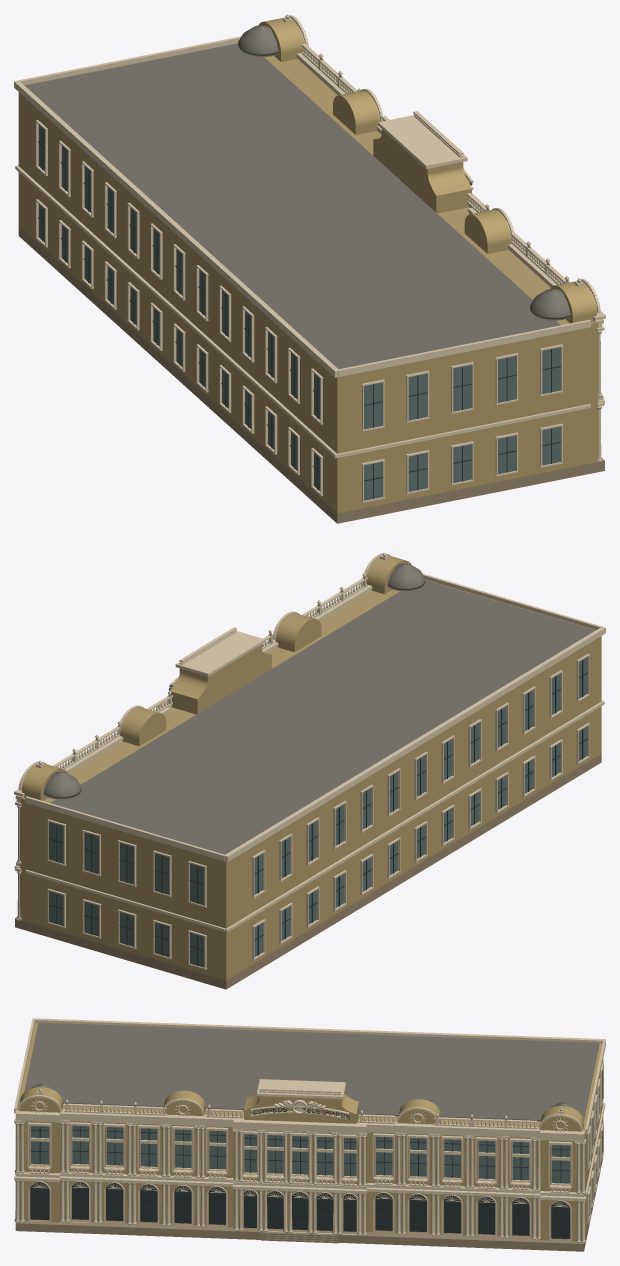
Rendered from edificio-de-correos-costa-rica-near.glb.
The picture shows the model from 3 angles, top to bottom: view 1: azimuth 30°, elevation 25°; view 2: azimuth 150°, elevation 25°; view 3: azimuth 270°, elevation 25°; orthographic projection. The views are drawn at different scales.
Visible parts, largest first — view 1: edificio-de-correos-costa-rica-0-roof, edificio-de-correos-costa-rica-0-stone, edificio-de-correos-costa-rica-0-trim, edificio-de-correos-costa-rica-0-glass, edificio-de-correos-costa-rica-0-base, edificio-de-correos-costa-rica-0-iron; view 2: edificio-de-correos-costa-rica-0-roof, edificio-de-correos-costa-rica-0-stone, edificio-de-correos-costa-rica-0-trim, edificio-de-correos-costa-rica-0-glass, edificio-de-correos-costa-rica-0-base, edificio-de-correos-costa-rica-0-iron; view 3: edificio-de-correos-costa-rica-0-trim, edificio-de-correos-costa-rica-0-roof, edificio-de-correos-costa-rica-0-stone, edificio-de-correos-costa-rica-0-iron, edificio-de-correos-costa-rica-0-glass, edificio-de-correos-costa-rica-0-base.
Part boxes in pixels (bbox=[...]): edificio-de-correos-costa-rica-0-roof: bbox=[25, 25, 570, 368]; edificio-de-correos-costa-rica-0-stone: bbox=[18, 18, 598, 513]; edificio-de-correos-costa-rica-0-trim: bbox=[14, 14, 605, 502]; edificio-de-correos-costa-rica-0-glass: bbox=[39, 125, 560, 500]; edificio-de-correos-costa-rica-0-base: bbox=[18, 226, 604, 523]; edificio-de-correos-costa-rica-0-iron: bbox=[38, 127, 561, 499]; edificio-de-correos-costa-rica-0-roof: bbox=[43, 563, 595, 854]; edificio-de-correos-costa-rica-0-stone: bbox=[20, 555, 601, 980]; edificio-de-correos-costa-rica-0-trim: bbox=[14, 552, 605, 969]; edificio-de-correos-costa-rica-0-glass: bbox=[49, 657, 587, 967]; edificio-de-correos-costa-rica-0-base: bbox=[15, 753, 601, 989]; edificio-de-correos-costa-rica-0-iron: bbox=[49, 660, 587, 965]; edificio-de-correos-costa-rica-0-trim: bbox=[14, 1018, 605, 1243]; edificio-de-correos-costa-rica-0-roof: bbox=[24, 1022, 599, 1121]; edificio-de-correos-costa-rica-0-stone: bbox=[17, 1023, 603, 1241]; edificio-de-correos-costa-rica-0-iron: bbox=[30, 1071, 603, 1239]; edificio-de-correos-costa-rica-0-glass: bbox=[31, 1069, 602, 1215]; edificio-de-correos-costa-rica-0-base: bbox=[15, 1156, 603, 1251].
Size of the model in its own units: 37.03 by 22 by 79.27.
